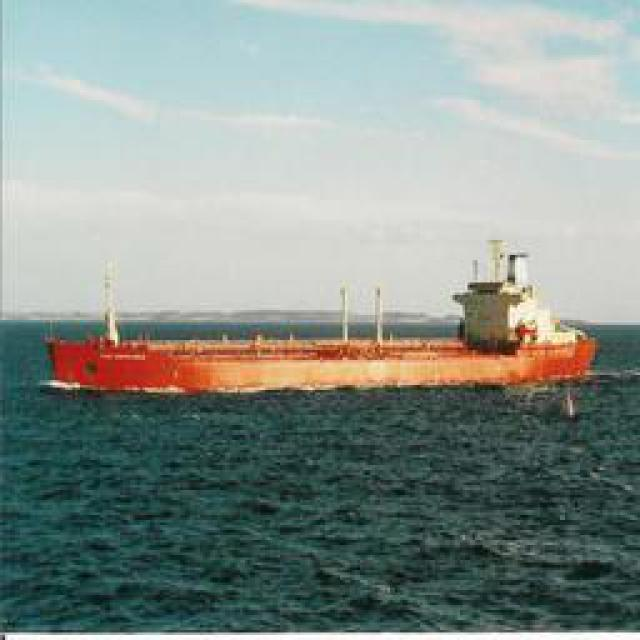Ship: (49, 295, 599, 403)
